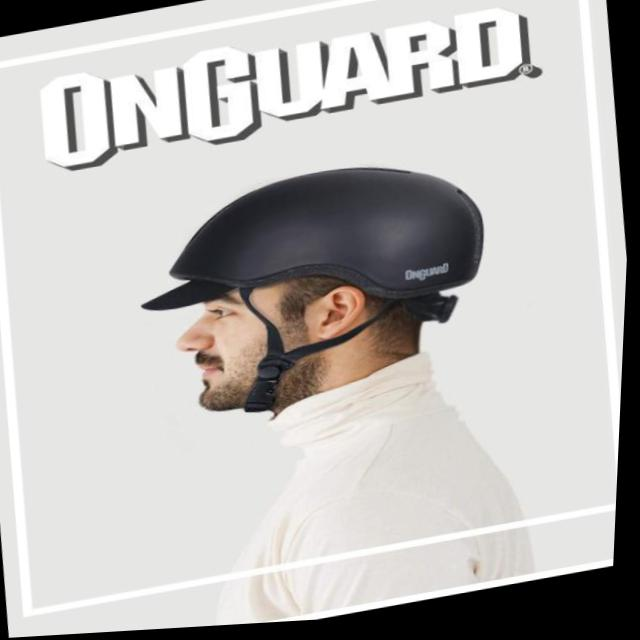helmet: (128, 140, 522, 438)
